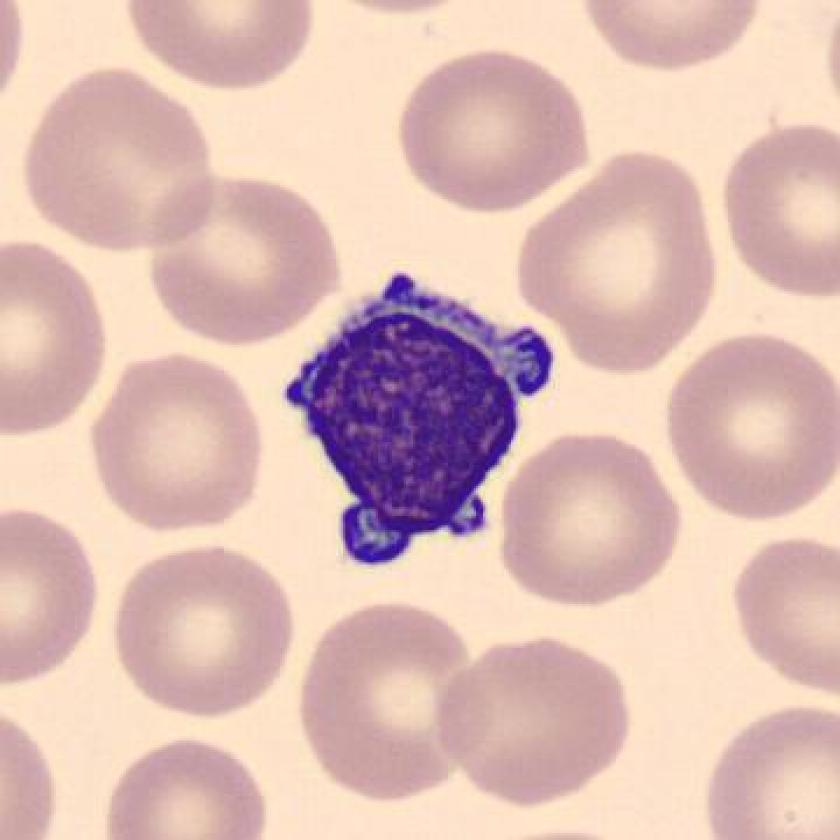lymphocyte: (269, 256, 573, 577)
